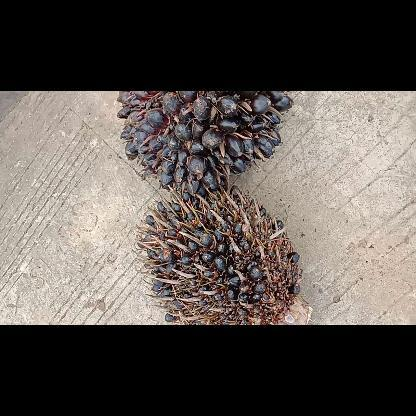TBS mentah: (136, 182, 306, 324), (112, 91, 296, 201)
